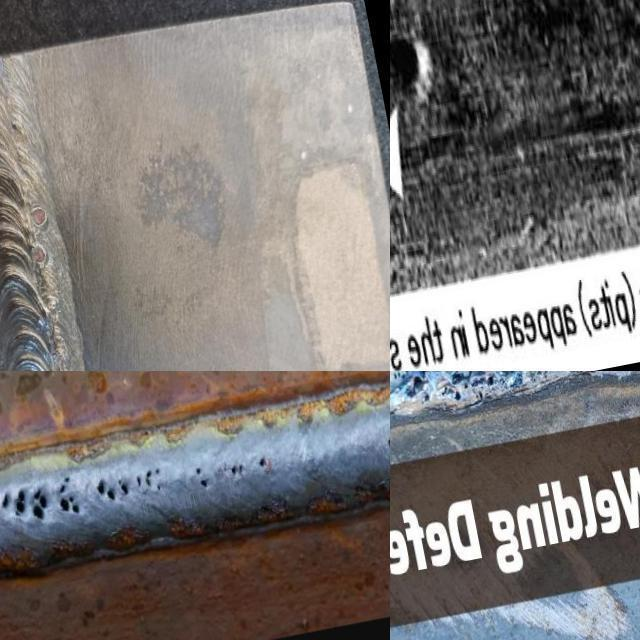defect: (390, 4, 440, 97), (390, 371, 433, 406), (91, 477, 132, 505), (58, 473, 83, 518), (135, 466, 163, 493), (32, 487, 49, 525), (30, 198, 50, 229), (51, 347, 72, 371), (29, 241, 46, 268), (193, 465, 212, 489), (13, 488, 26, 520), (229, 461, 244, 479), (10, 117, 22, 132), (0, 492, 9, 510), (257, 456, 268, 469), (477, 389, 485, 404), (441, 385, 449, 398), (463, 379, 470, 393), (487, 375, 495, 387), (454, 389, 462, 401)
